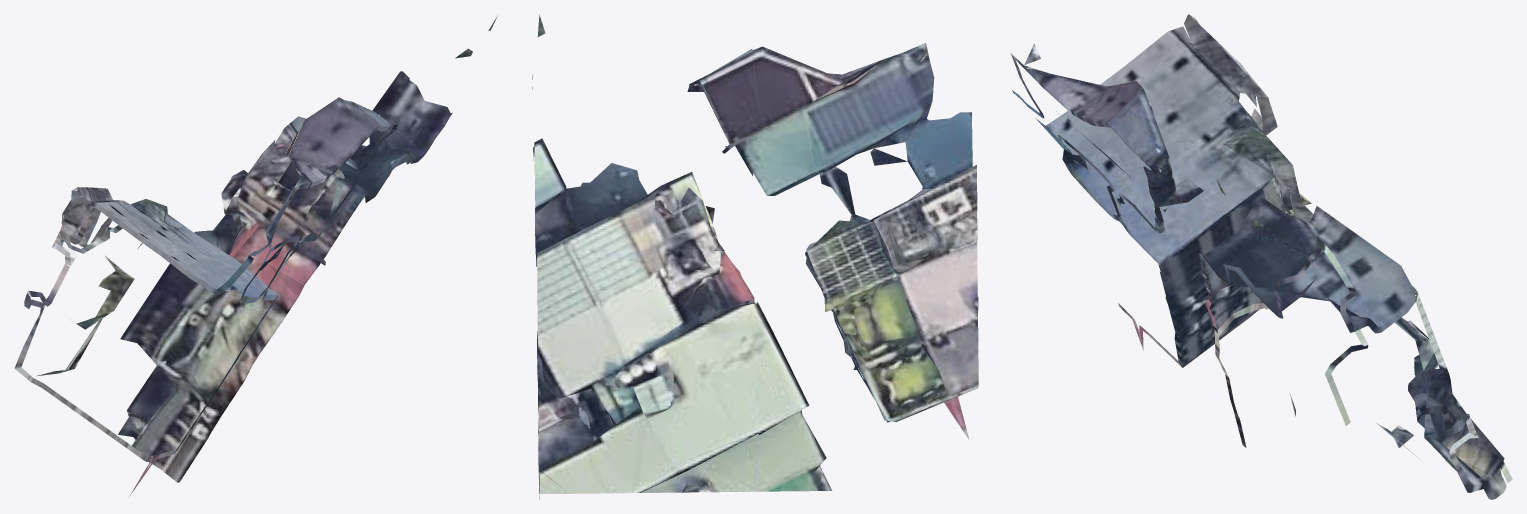
3 renders of one model, left to right at view 1: azimuth 30°, elevation 25°; view 2: azimuth 150°, elevation 25°; view 3: azimuth 270°, elevation 25°, orthographic. The views are drawn at different scales.
Bounding box in the file's own units: 41.61 × 34.48 × 36.85.
2 materials, 2 textured.
